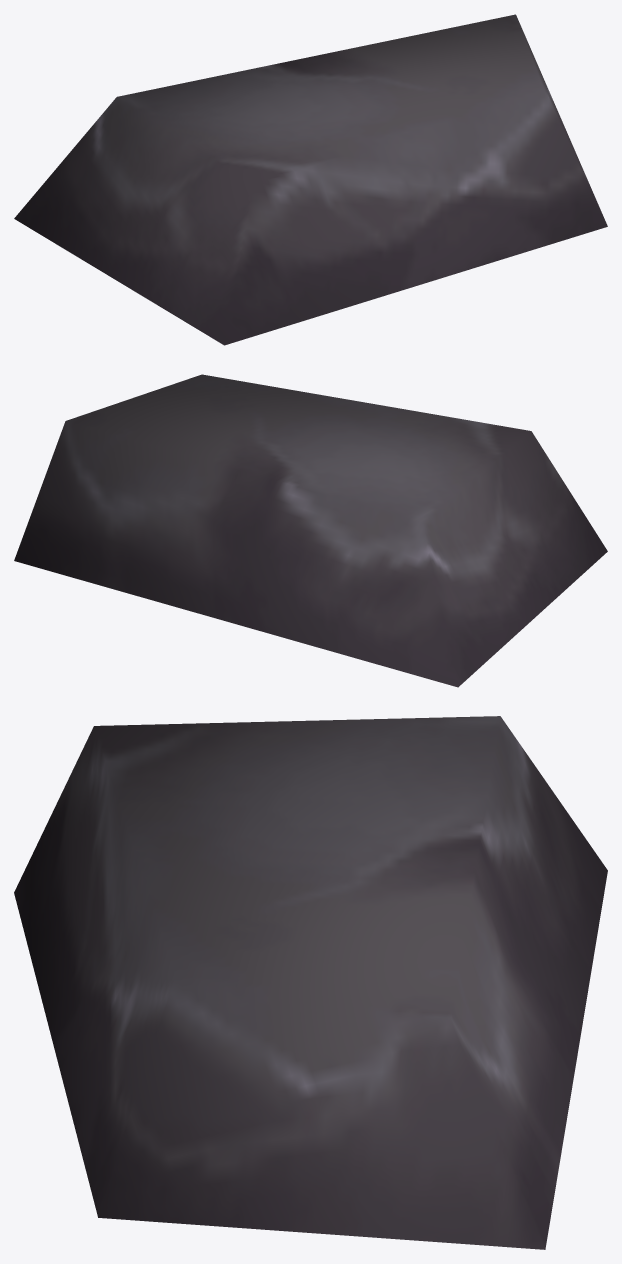
The model's file is yw_shanlin_stones_028.FBX.
3 views of the same model, one above another, from view 1: azimuth 30°, elevation 25°; view 2: azimuth 150°, elevation 25°; view 3: azimuth 270°, elevation 25° (orthographic). The views are drawn at different scales.
Parts seen in each view (by area): view 1: yw_shanlin_stones_028; view 2: yw_shanlin_stones_028; view 3: yw_shanlin_stones_028.
Part boxes in pixels (<box>): yw_shanlin_stones_028: <box>14,14,607,345</box>; yw_shanlin_stones_028: <box>14,374,607,687</box>; yw_shanlin_stones_028: <box>14,716,607,1249</box>.
Bounding box in the file's own units: 61.38 × 15.84 × 40.62.
